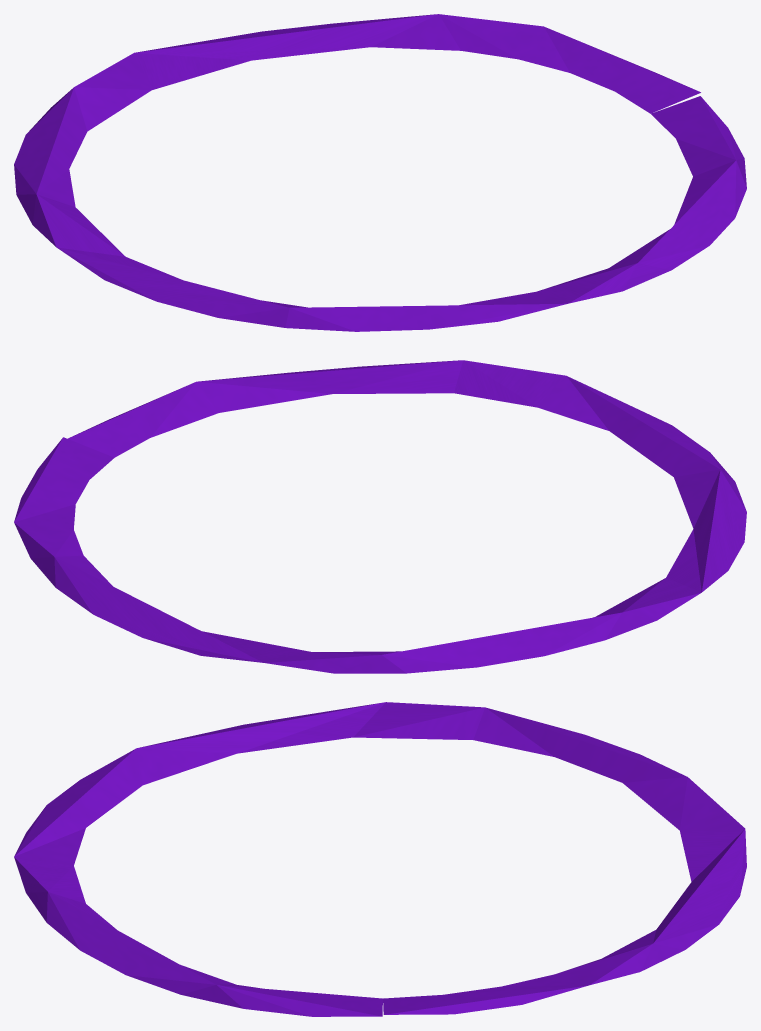
Rendered from SM_shadow_surge_ribbon_LOD1.fbx.
3 renders of one model, top to bottom at view 1: azimuth 30°, elevation 25°; view 2: azimuth 150°, elevation 25°; view 3: azimuth 270°, elevation 25°, orthographic.
Parts seen in each view (by area): view 1: SM_shadow_surge_ribbon_LOD1; view 2: SM_shadow_surge_ribbon_LOD1; view 3: SM_shadow_surge_ribbon_LOD1.
Boxes of the visible parts, x1=… form: SM_shadow_surge_ribbon_LOD1: x1=14, y1=14, x2=746, y2=331; SM_shadow_surge_ribbon_LOD1: x1=14, y1=360, x2=746, y2=673; SM_shadow_surge_ribbon_LOD1: x1=14, y1=702, x2=746, y2=1016.
Bounding box in the file's own units: 2.15 × 2.13 × 0.0656.
